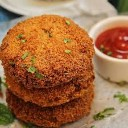cutlet: (3, 15, 97, 80), (5, 80, 95, 125)
